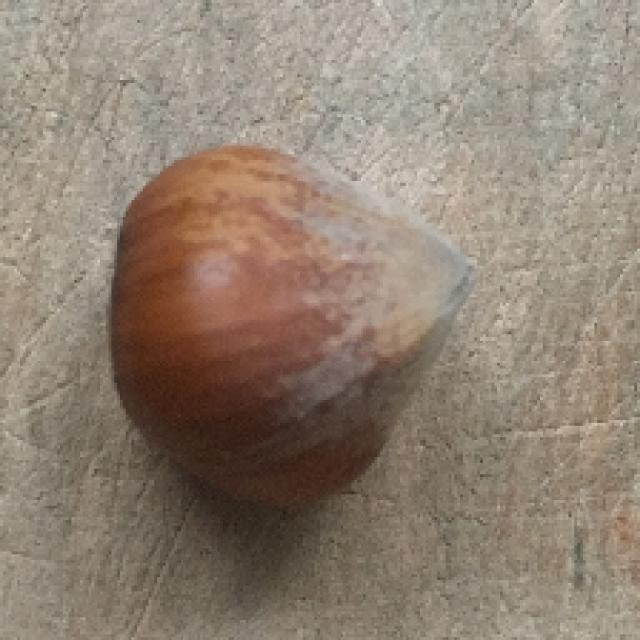qualityHazelnut: (110, 128, 482, 508)
